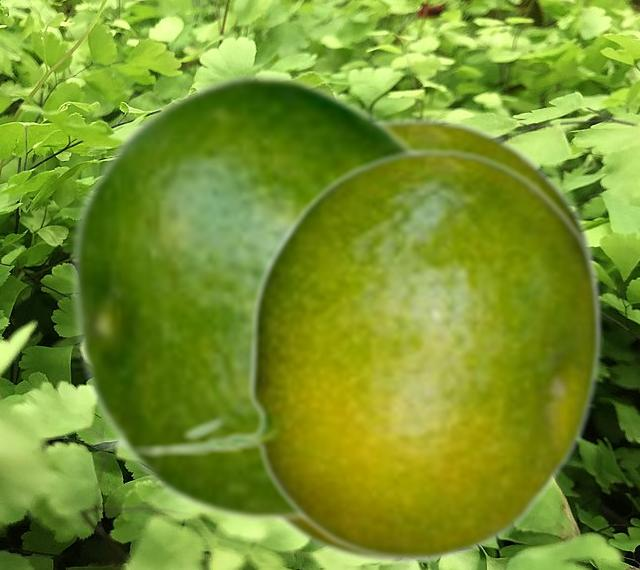calamansi: (90, 114, 600, 563), (131, 146, 602, 561), (67, 70, 421, 524)
